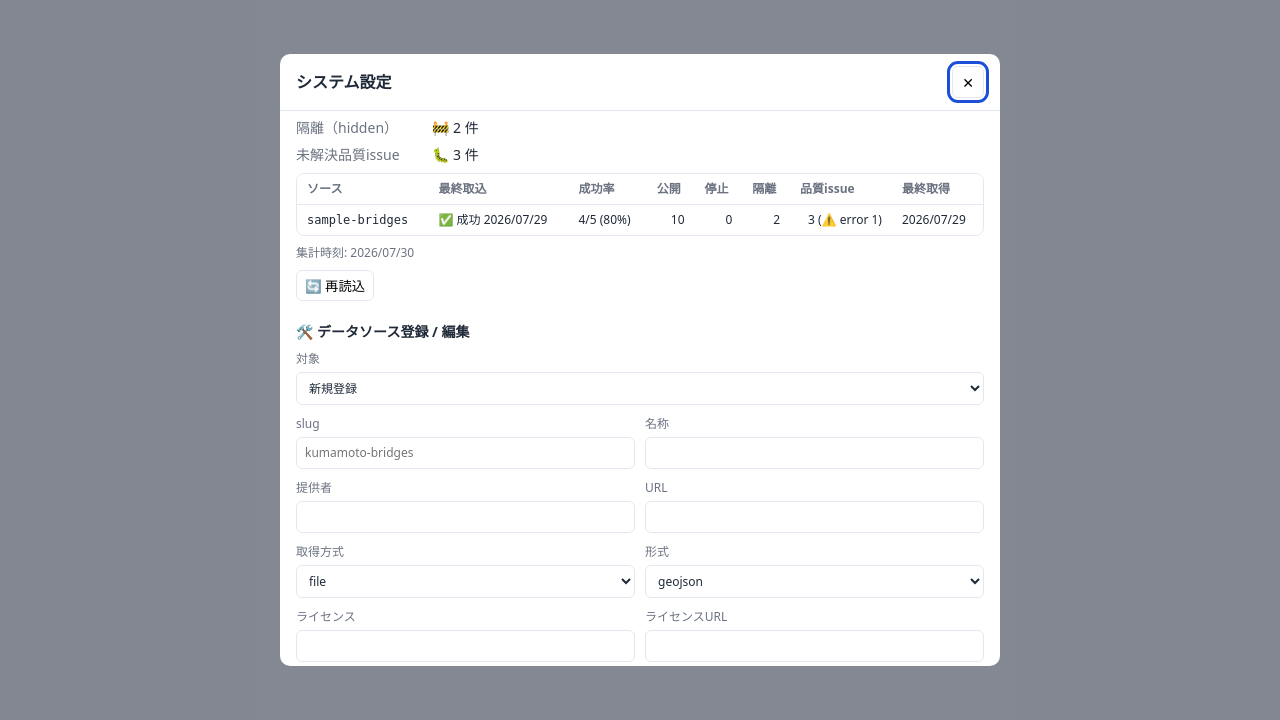
Test: SettingsDialog › updates an existing source through the admin API
(page scrolled)
Select "sample-bridges / サンプル橋梁データセット" in the dropdown labelled "対象" at coordinates (640, 388), box [296,372,984,405]
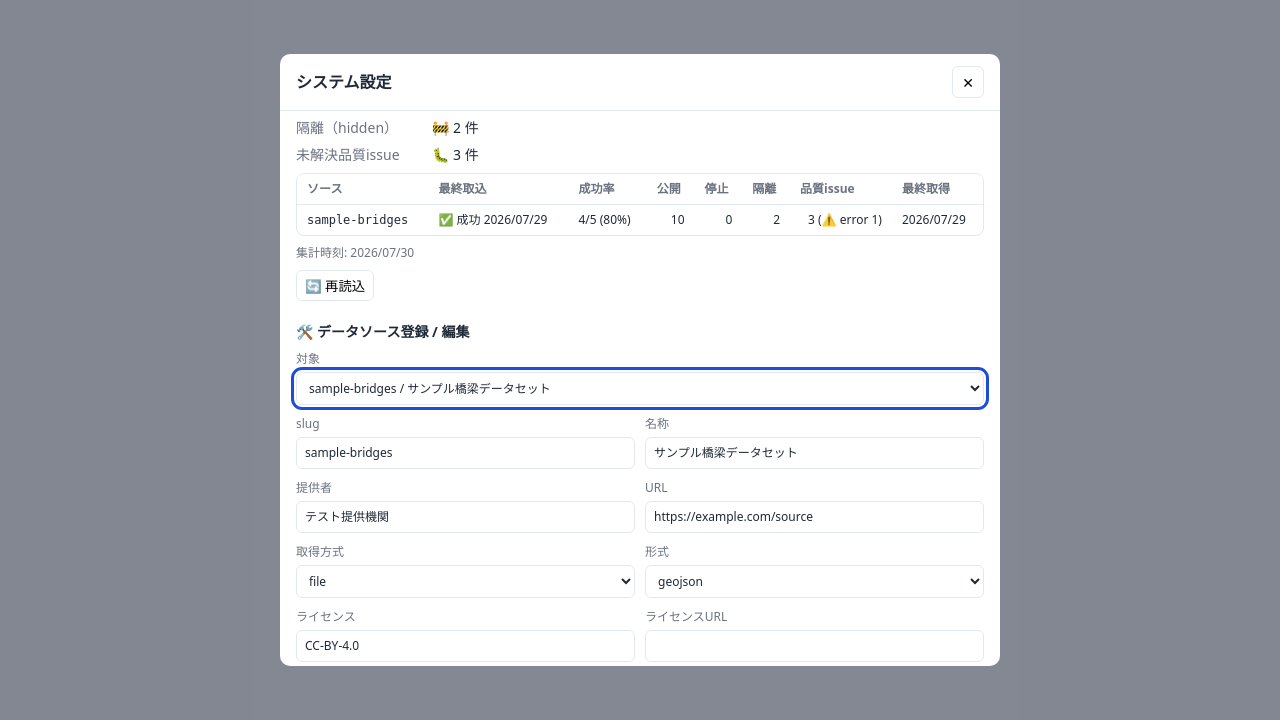
Replace the text in the field labelled "名称" with "更新後ソース" at coordinates (814, 453), box [645,437,984,469]
(page scrolled)
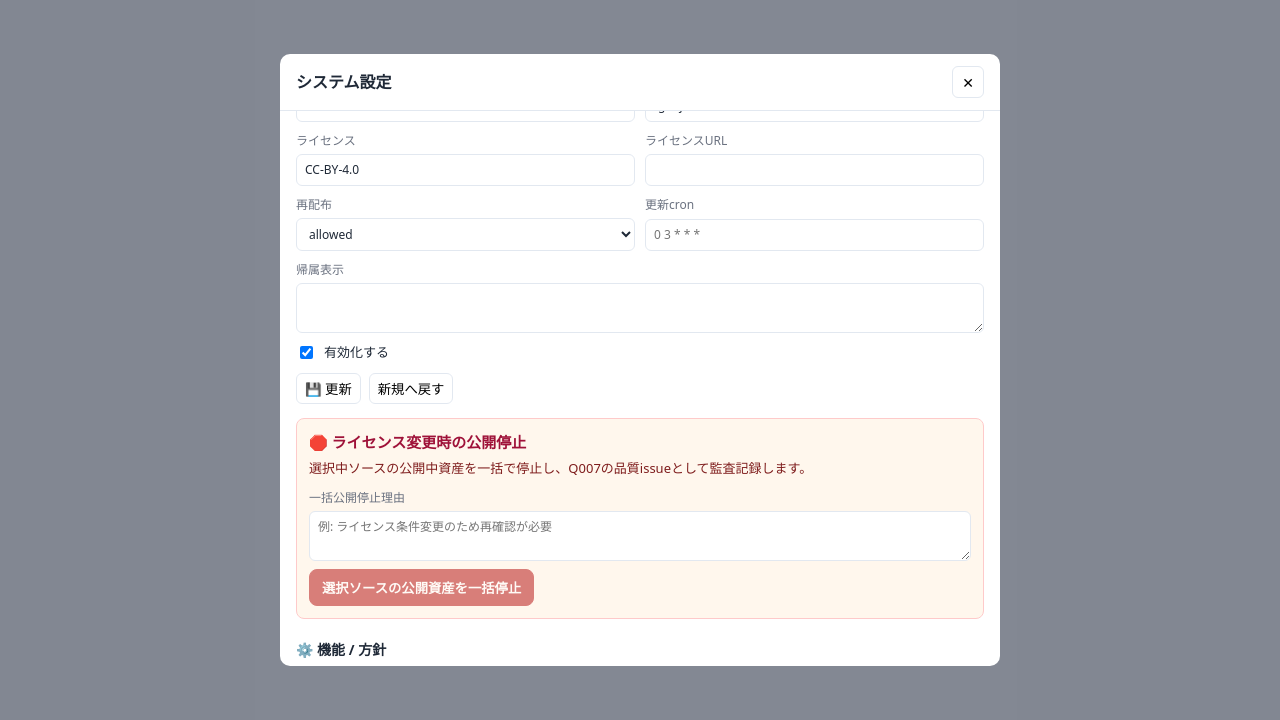
Click the button "💾 更新" at coordinates (328, 388), box [296,372,361,404]
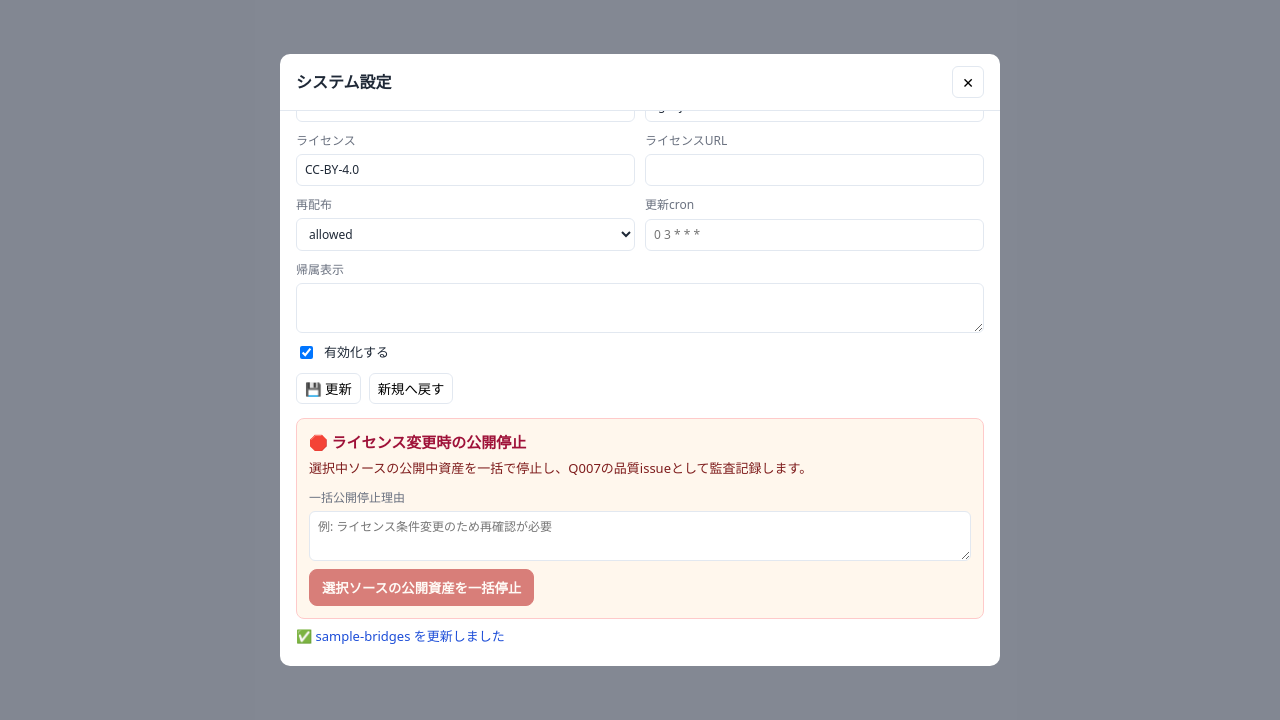
expect the text "✅ sample-bridges を更新しました" is shown: met, box [296,626,505,644]
